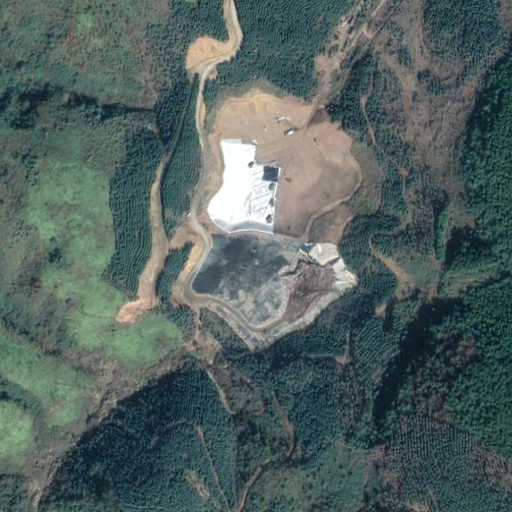lf: (178, 89, 363, 351)
